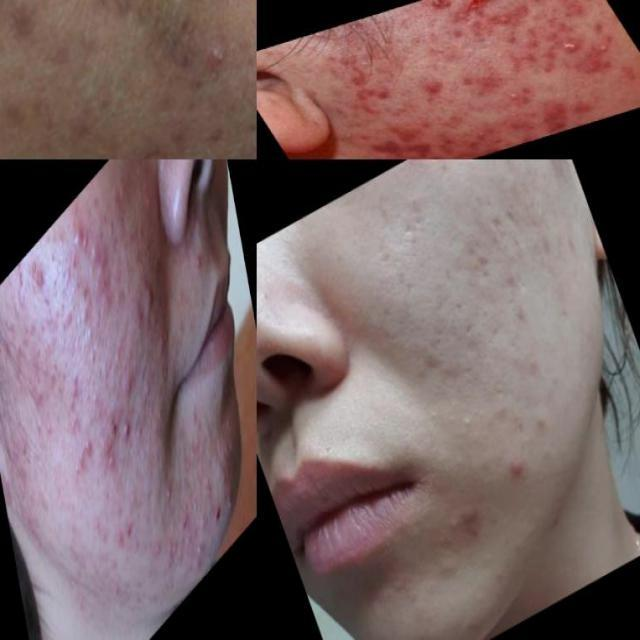Pimples: (492, 436, 540, 501), (86, 234, 116, 325), (198, 28, 240, 83), (26, 240, 56, 314), (99, 405, 127, 484), (456, 494, 494, 546), (159, 526, 187, 590), (186, 228, 213, 293), (72, 421, 97, 483), (139, 264, 161, 334), (62, 366, 86, 430), (153, 346, 176, 404), (159, 462, 182, 519), (339, 62, 382, 92), (120, 356, 140, 414), (117, 399, 137, 456), (190, 530, 212, 578), (188, 417, 208, 465), (72, 213, 90, 264), (243, 40, 257, 104), (500, 85, 536, 109), (386, 96, 418, 122), (554, 34, 587, 58), (222, 483, 240, 527), (460, 0, 500, 19), (201, 470, 218, 510), (423, 0, 460, 16), (339, 128, 367, 148), (594, 40, 621, 60), (504, 108, 530, 127), (384, 148, 424, 160)
